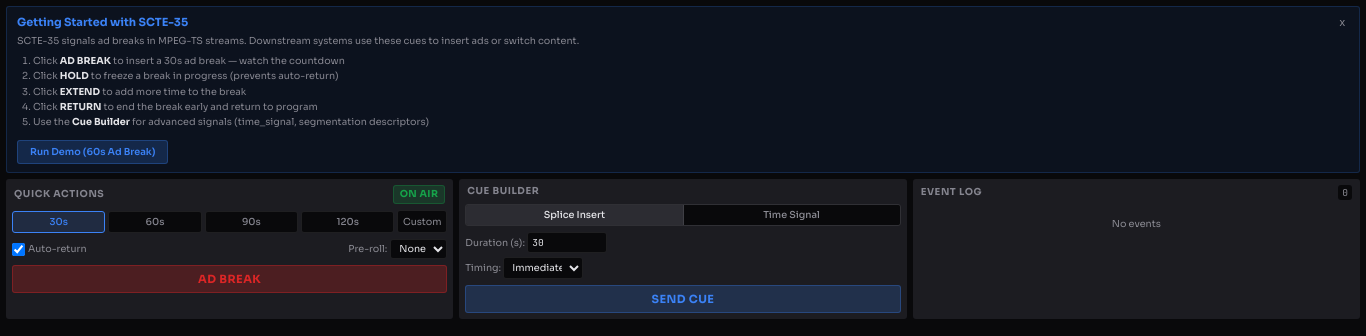
Test: SCTE35Panel › re-shows guide when ? button clicked
Dismiss first
Click the button with class "guide-dismiss".
click(1342, 23)  # box x1=1335 y1=17 x2=1349 y2=28
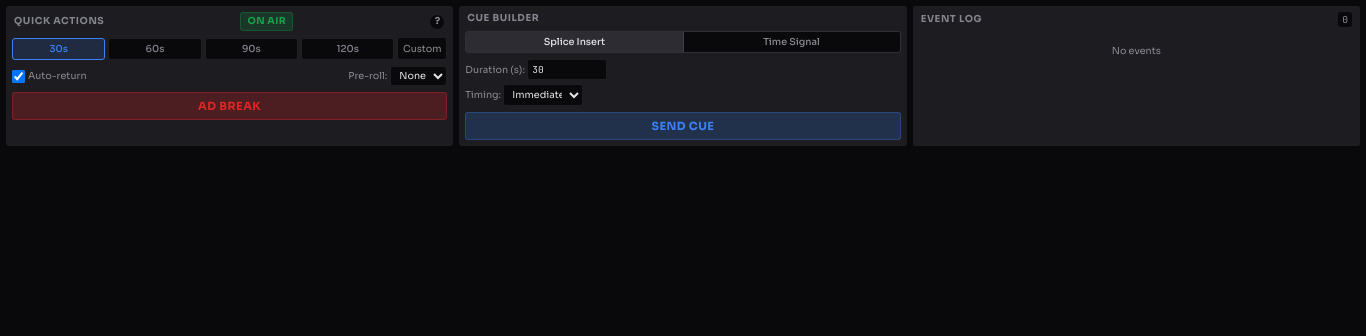
Click the button with class "guide-show-btn".
click(437, 22)  # box x1=429 y1=14 x2=445 y2=30
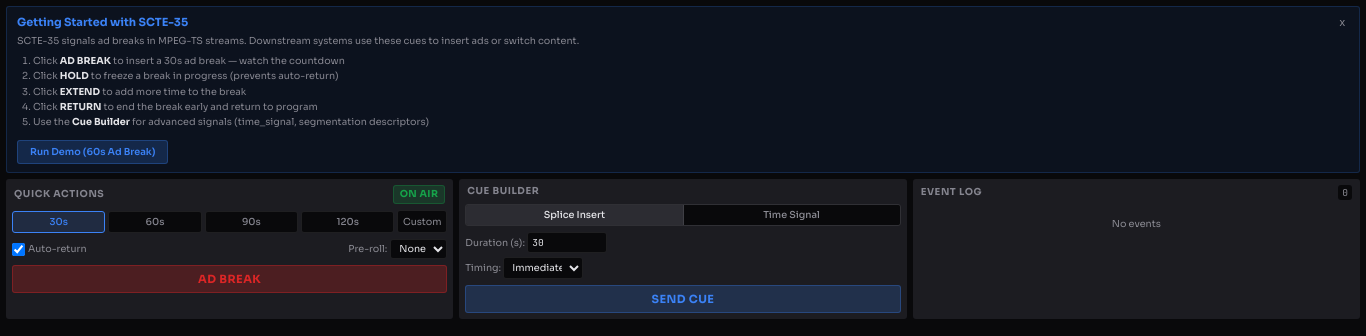
Now the element with class "guide-banner" is shown, box x1=6 y1=6 x2=1360 y2=173
